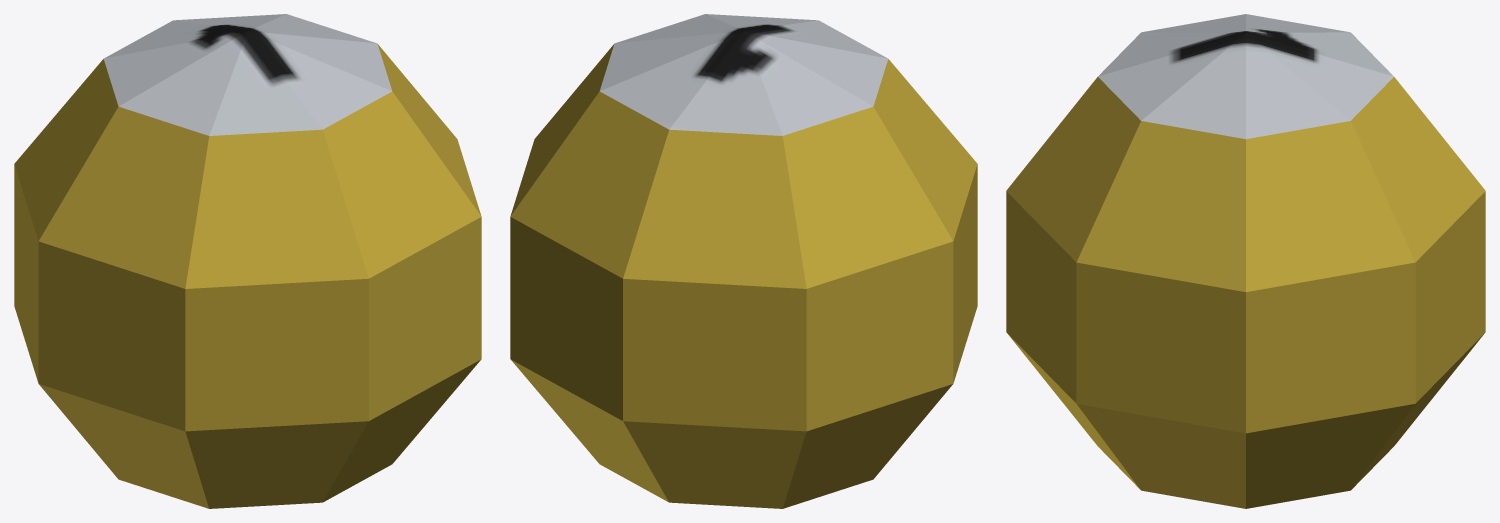
Rendered from SM_Prop_PoolBall_01.obj.
The picture shows the model from 3 angles, left to right: view 1: azimuth 30°, elevation 25°; view 2: azimuth 150°, elevation 25°; view 3: azimuth 270°, elevation 25°; orthographic projection.
Parts seen in each view (by area): view 1: SM_Prop_PoolBall_01_0; view 2: SM_Prop_PoolBall_01_0; view 3: SM_Prop_PoolBall_01_0.
Boxes of the visible parts, <box> form: SM_Prop_PoolBall_01_0: <box>14,14,481,508</box>; SM_Prop_PoolBall_01_0: <box>510,14,977,508</box>; SM_Prop_PoolBall_01_0: <box>1006,14,1485,508</box>.
Bounding box in the file's own units: 0.0843 × 0.0886 × 0.0843.
1 material, 1 textured.
